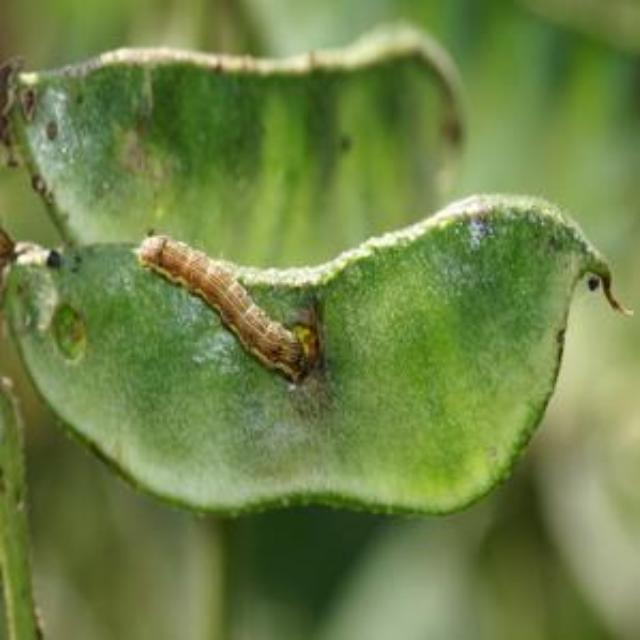Cotton bollworm: (115, 198, 367, 416)
